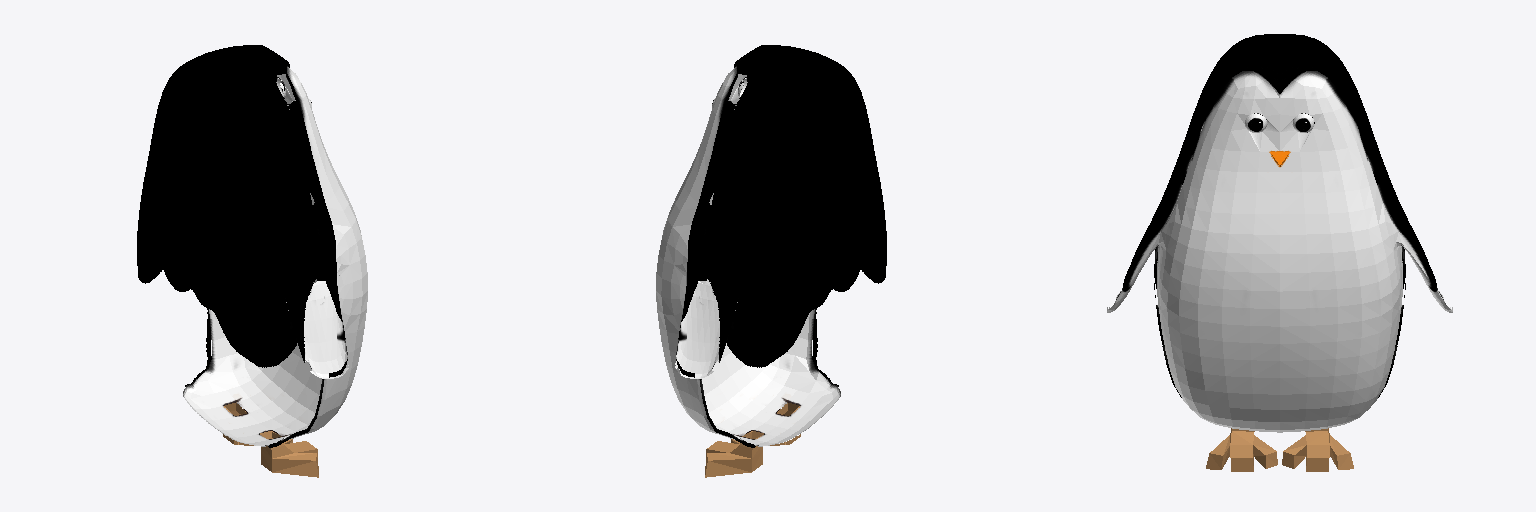
3 views of the same model, side by side, from view 1: azimuth 30°, elevation 25°; view 2: azimuth 150°, elevation 25°; view 3: azimuth 270°, elevation 25° (orthographic).
Parts seen in each view (by area): view 1: penguin; view 2: penguin; view 3: penguin.
Part boxes in pixels (bbox=[...]): penguin: bbox=[137, 45, 367, 477]; penguin: bbox=[656, 45, 886, 477]; penguin: bbox=[1107, 34, 1452, 471].
Bounding box in the file's own units: 1.61 × 3.87 × 3.03.
Materials: 1 (1 with a texture image).